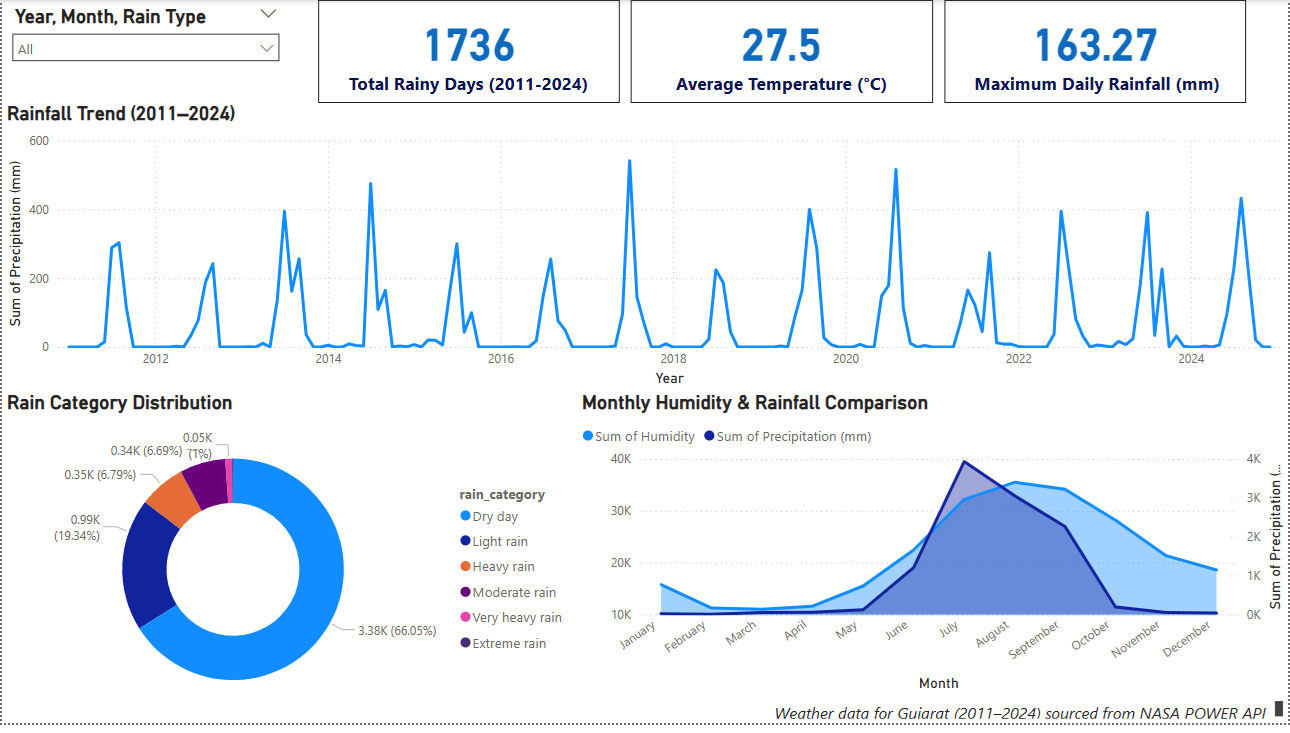

What the dashboard file says about the page in this screenshot:
{"tool":"powerbi","page":{"name":"Page 1","canvas":[1280,720],"ordinal":0},"visuals":[{"type":"lineChart","title":"Rainfall Trend (2011–2024)","fields":{"Y":["Sum(DF1.PRECTOTCORR)"],"Category":["DF1.date.Variation.Date Hierarchy.Year","DF1.date.Variation.Date Hierarchy.Month","DF1.date.Variation.Date Hierarchy.Day"]},"box":[0,102,1280,287.4],"z":0},{"type":"slicer","fields":{"Values":["DF1.Year","DF1.MonthName","DF1.rain_category"]},"box":[0,0,286.1,69.7],"z":1000},{"type":"areaChart","title":"Monthly Humidity & Rainfall Comparison","fields":{"Category":["DF1.date.Variation.Date Hierarchy.Month","DF1.date.Variation.Date Hierarchy.Day"],"Y":["Sum(DF1.humidity)"],"Y2":["Sum(DF1.PRECTOTCORR)"]},"box":[572.5,388.8,707.5,303.8],"z":2000},{"type":"donutChart","title":"Rain Category Distribution","fields":{"Y":["CountNonNull(DF1.rain(yes/no))"],"Category":["DF1.rain_category"]},"box":[0,389.4,572.2,330.9],"z":3000},{"type":"card","fields":{"Values":["Sum(DF1.TotalRainyDays)"]},"box":[314.7,0,299.8,102],"z":4000},{"type":"card","fields":{"Values":["Avg(DF1.temparature)"]},"box":[625.7,0,301,102],"z":5000},{"type":"card","fields":{"Values":["Max(DF1.PRECTOTCORR)"]},"box":[937.9,0,299.8,102],"z":6000},{"type":"textbox","box":[100,692.5,1180,27.5],"z":7000}]}

Visuals, with their boxes in screenshot pixels (x1, y1, x2, y2), scaled from the page's 1280x720 canvas onto the 1290x733 screenshot:
"Rainfall Trend (2011–2024)" lineChart: <bbox>0, 104, 1289, 396</bbox>
slicer - DF1.Year x DF1.MonthName: <bbox>0, 0, 288, 71</bbox>
"Monthly Humidity & Rainfall Comparison" areaChart: <bbox>577, 396, 1289, 705</bbox>
"Rain Category Distribution" donutChart: <bbox>0, 396, 577, 732</bbox>
card - Sum(DF1.TotalRainyDays): <bbox>317, 0, 619, 104</bbox>
card - Avg(DF1.temparature): <bbox>631, 0, 934, 104</bbox>
card - Max(DF1.PRECTOTCORR): <bbox>945, 0, 1247, 104</bbox>
textbox: <bbox>101, 705, 1289, 732</bbox>
